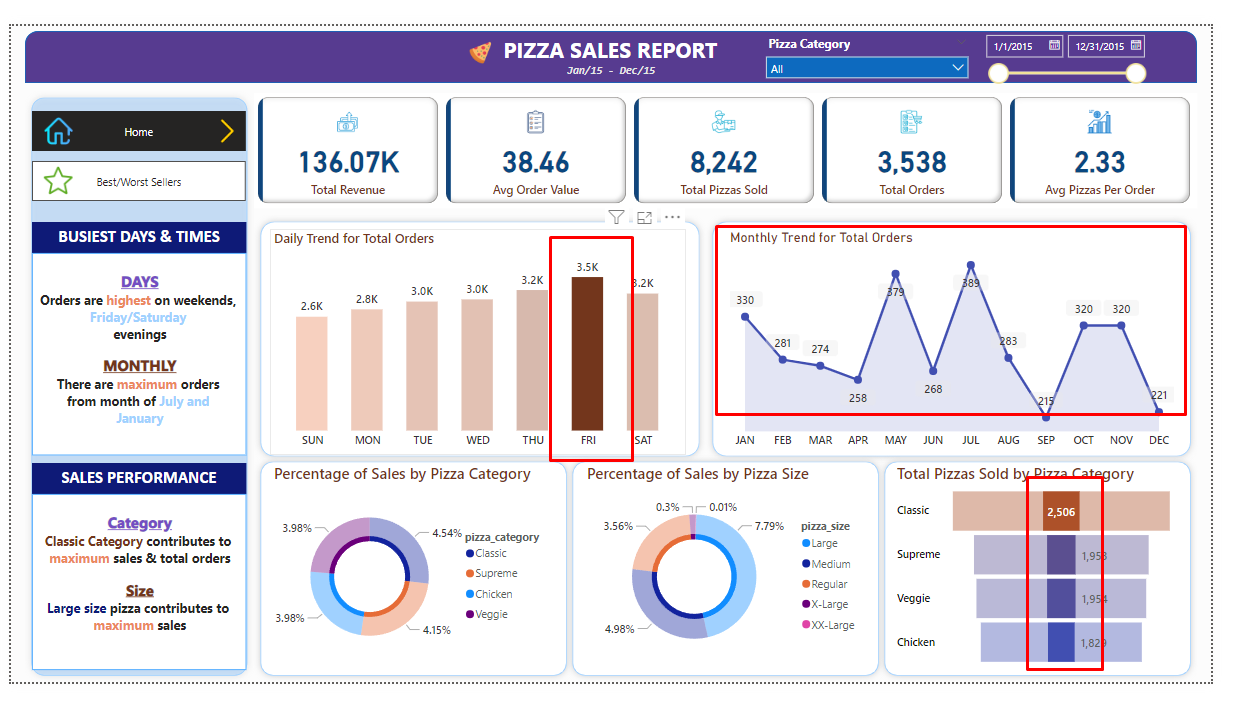

What the dashboard file says about the page in this screenshot:
{"tool":"powerbi","page":{"name":"Home","canvas":[1500,820],"ordinal":0},"visuals":[{"type":"cardVisual","fields":{"Data":["pizza_sales.Total Revenue","pizza_sales.Avg Order Value","pizza_sales.Total Pizzas Sold","pizza_sales.Total Orders","pizza_sales.Avg Pizzas Per Order"]},"box":[303.8,83.8,1178.8,143.8],"z":0},{"type":"shape","box":[17.5,6.2,1465,65],"z":1000},{"type":"textbox","box":[605,6.2,288.8,53.8],"z":2000},{"type":"textbox","box":[681.2,41.2,137.5,40],"z":3000},{"type":"image","box":[567.5,12.5,37.5,41.2],"z":4000},{"type":"shape","box":[303.8,236.2,565,310],"z":5000},{"type":"columnChart","title":"Daily Trend for Total Orders","fields":{"Category":["pizza_sales.Order Day"],"Y":["pizza_sales.Total Orders"]},"box":[323.8,253.8,520,282.5],"z":6000},{"type":"shape","box":[17.5,81.2,286.2,738.8],"z":7000},{"type":"textbox","box":[26.2,245,267.5,38.8],"z":8000},{"type":"shape","box":[868.8,236.2,613.8,310],"z":9000},{"type":"areaChart","title":"Monthly Trend for Total Orders","fields":{"Category":["pizza_sales.Order Month"],"Y":["pizza_sales.Total Orders"]},"box":[893.8,253.8,565,282.5],"z":10000},{"type":"shape","box":[1083.8,536.2,398.8,283.8],"z":11000},{"type":"shape","box":[693.8,536.2,398.8,283.8],"z":12000},{"type":"shape","box":[303.8,536.2,398.8,283.8],"z":13000},{"type":"donutChart","title":"Percentage of Sales by Pizza Category","fields":{"Category":["pizza_sales.pizza_category"],"Y":["pizza_sales.Total Revenue"]},"box":[323.8,546.2,357.5,258.8],"z":14000},{"type":"donutChart","title":"Percentage of Sales by Pizza Size","fields":{"Y":["pizza_sales.Total Revenue"],"Category":["pizza_sales.pizza_size"]},"box":[715,546.2,357.5,258.8],"z":15000},{"type":"funnel","title":"Total Pizzas Sold by Pizza Category","fields":{"Category":["pizza_sales.pizza_category"],"Y":["pizza_sales.Total Pizzas Sold"]},"box":[1102.5,546.2,356.2,258.8],"z":16000},{"type":"textbox","box":[26.2,283.8,267.5,252.5],"z":17000},{"type":"textbox","box":[26.2,546.2,267.5,38.8],"z":18000},{"type":"textbox","box":[26.2,585,267.5,220],"z":19000},{"type":"slicer","fields":{"Values":["pizza_sales.pizza_category"]},"box":[933.8,6.2,272.5,65],"z":20000},{"type":"slicer","fields":{"Values":["pizza_sales.order_date"]},"box":[1206.2,1.2,221.2,75],"z":21000},{"type":"pageNavigator","box":[26.2,106.2,267.5,50],"z":22000},{"type":"pageNavigator","box":[26.2,168.8,267.5,50],"z":23000},{"type":"image","box":[247.5,111.2,46.2,40],"z":24000},{"type":"image","box":[35,108.8,47.5,45],"z":25000},{"type":"image","box":[35,170,47.5,46.2],"z":26000}]}

Visuals, with their boxes on the page's 1500x820 design canvas (x1, y1, x2, y2). These are canvas units, not pixel positions in the 1258x724 screenshot, which may show the page scaled, cropped or inside an application window:
cardVisual - pizza_sales.Total Revenue x pizza_sales.Avg Order Value: 304, 84, 1483, 228
shape: 18, 6, 1482, 71
textbox: 605, 6, 894, 60
textbox: 681, 41, 819, 81
image: 568, 12, 605, 54
shape: 304, 236, 869, 546
"Daily Trend for Total Orders" columnChart: 324, 254, 844, 536
shape: 18, 81, 304, 820
textbox: 26, 245, 294, 284
shape: 869, 236, 1483, 546
"Monthly Trend for Total Orders" areaChart: 894, 254, 1459, 536
shape: 1084, 536, 1483, 820
shape: 694, 536, 1093, 820
shape: 304, 536, 703, 820
"Percentage of Sales by Pizza Category" donutChart: 324, 546, 681, 805
"Percentage of Sales by Pizza Size" donutChart: 715, 546, 1072, 805
"Total Pizzas Sold by Pizza Category" funnel: 1102, 546, 1459, 805
textbox: 26, 284, 294, 536
textbox: 26, 546, 294, 585
textbox: 26, 585, 294, 805
slicer - pizza_sales.pizza_category: 934, 6, 1206, 71
slicer - pizza_sales.order_date: 1206, 1, 1427, 76
pageNavigator: 26, 106, 294, 156
pageNavigator: 26, 169, 294, 219
image: 248, 111, 294, 151
image: 35, 109, 82, 154
image: 35, 170, 82, 216
